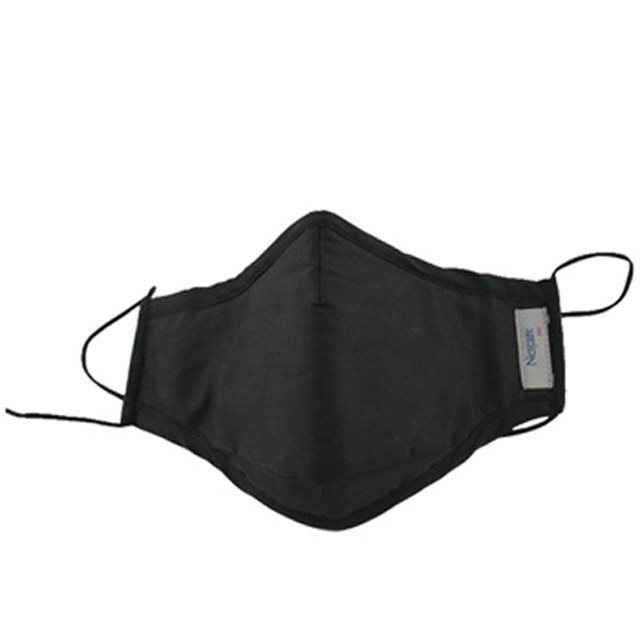mask: (74, 202, 634, 534)
